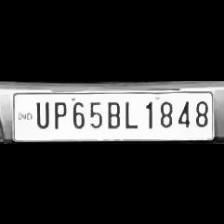1: (139, 97, 155, 129)
4: (175, 96, 191, 128)
5: (87, 97, 103, 129)
6: (68, 96, 86, 130)
8: (155, 96, 175, 128), (192, 96, 210, 128)
B: (102, 97, 122, 129)
L: (122, 97, 138, 129)
P: (50, 96, 68, 130)
U: (32, 97, 50, 129)
